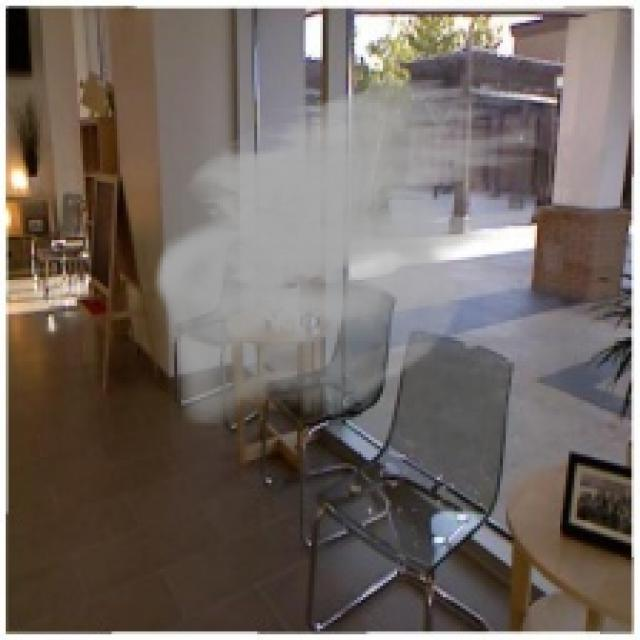smoke: (154, 68, 540, 426)
